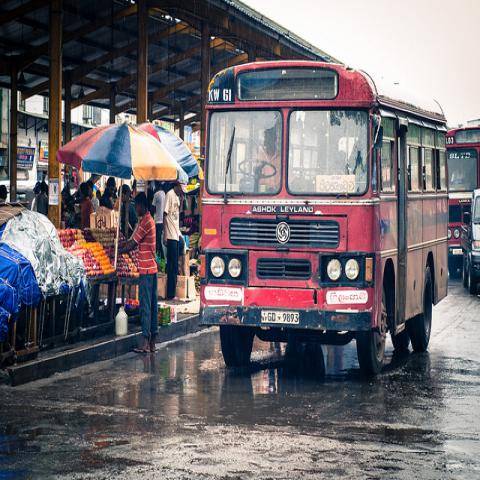bus: (198, 61, 450, 371), (446, 124, 480, 277)
car: (458, 190, 480, 297)
